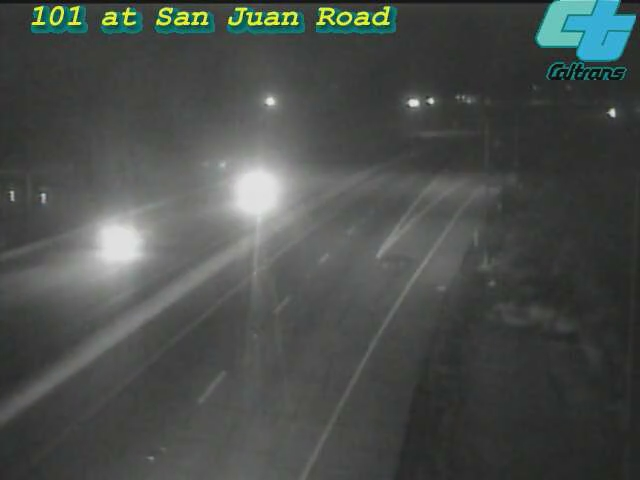vehicle: (77, 205, 157, 285), (213, 152, 293, 232), (588, 87, 638, 137)
